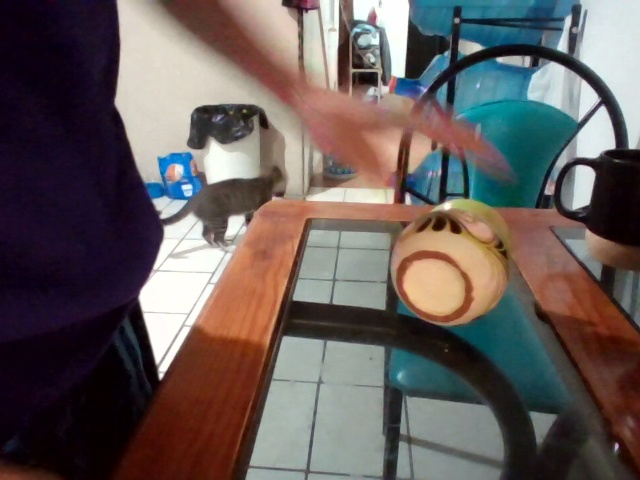taza: (554, 147, 640, 258)
